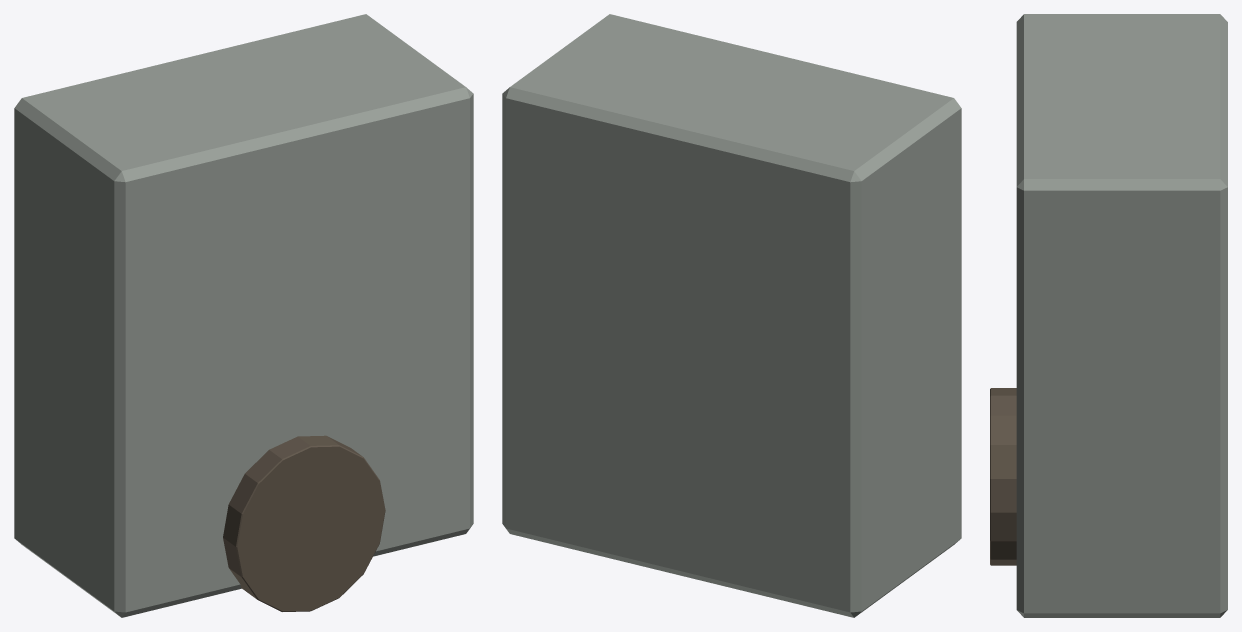
File: GE_PURGE_VENT_LODs.fbx
The picture shows the model from 3 angles, left to right: view 1: azimuth 30°, elevation 25°; view 2: azimuth 150°, elevation 25°; view 3: azimuth 270°, elevation 25°; orthographic projection.
Parts seen in each view (by area): view 1: GE_PURGE_VENT_LOD0; view 2: GE_PURGE_VENT_LOD0; view 3: GE_PURGE_VENT_LOD0.
Part boxes in pixels (x1=…): GE_PURGE_VENT_LOD0: x1=14, y1=14, x2=473, y2=617; GE_PURGE_VENT_LOD0: x1=502, y1=14, x2=961, y2=617; GE_PURGE_VENT_LOD0: x1=990, y1=14, x2=1227, y2=617.
Size of what is drawn, in the model's own units: 1.2 by 1.5 by 0.7.
